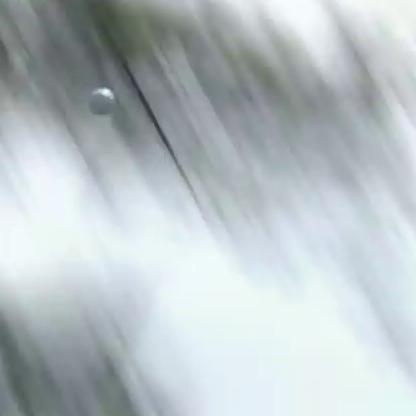golfball: (86, 84, 114, 114)
